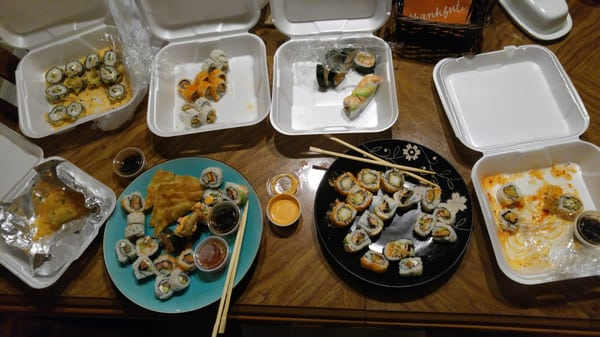sushi: (312, 136, 473, 302), (103, 156, 262, 323), (470, 139, 600, 287), (432, 44, 591, 155), (14, 18, 148, 139), (0, 156, 116, 288), (271, 35, 400, 137), (147, 33, 271, 137)
